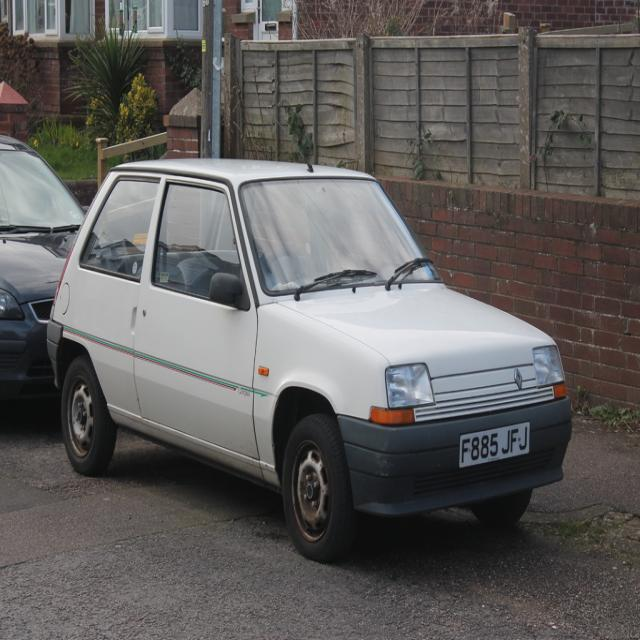car: (43, 156, 576, 570)
